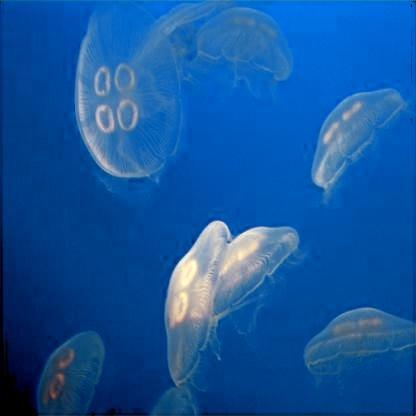Speckle: (73, 7, 179, 177), (156, 222, 234, 382), (312, 89, 406, 193), (211, 222, 303, 314), (197, 10, 301, 86), (304, 310, 416, 377), (129, 8, 228, 78), (37, 333, 105, 416)
